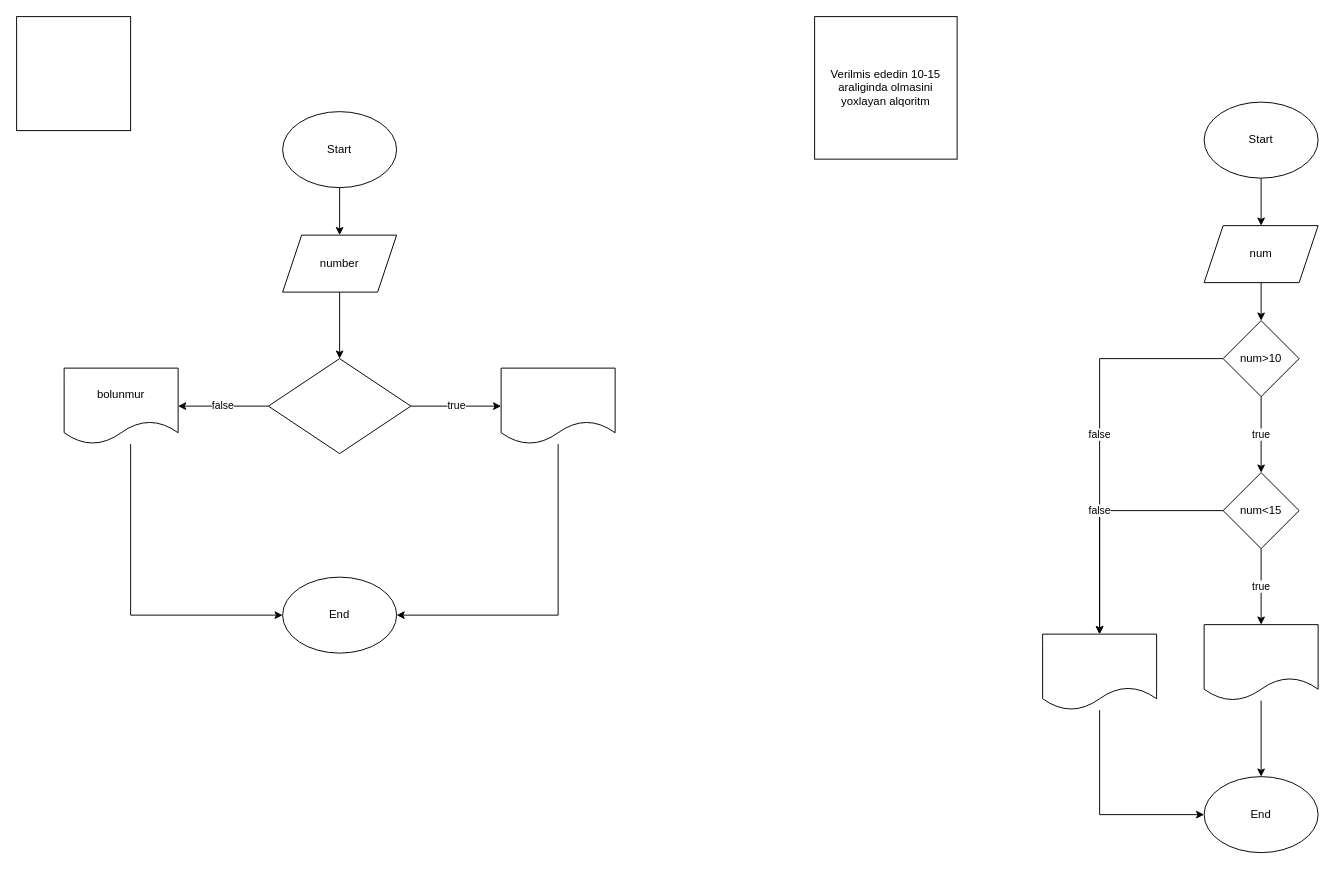
Some shapes in this 1335 by 869 pixel diagram are drawn without their labels. The centre of each missing label's shape, as x and y in pixels:
beli: (x=1260, y=662)
bolunur: (x=557, y=405)
number%3==0: (x=339, y=406)
Verilmis ededin 3-e bolunmesini yoxlayan alqoritm: (x=73, y=73)
xeyr: (x=1099, y=671)
